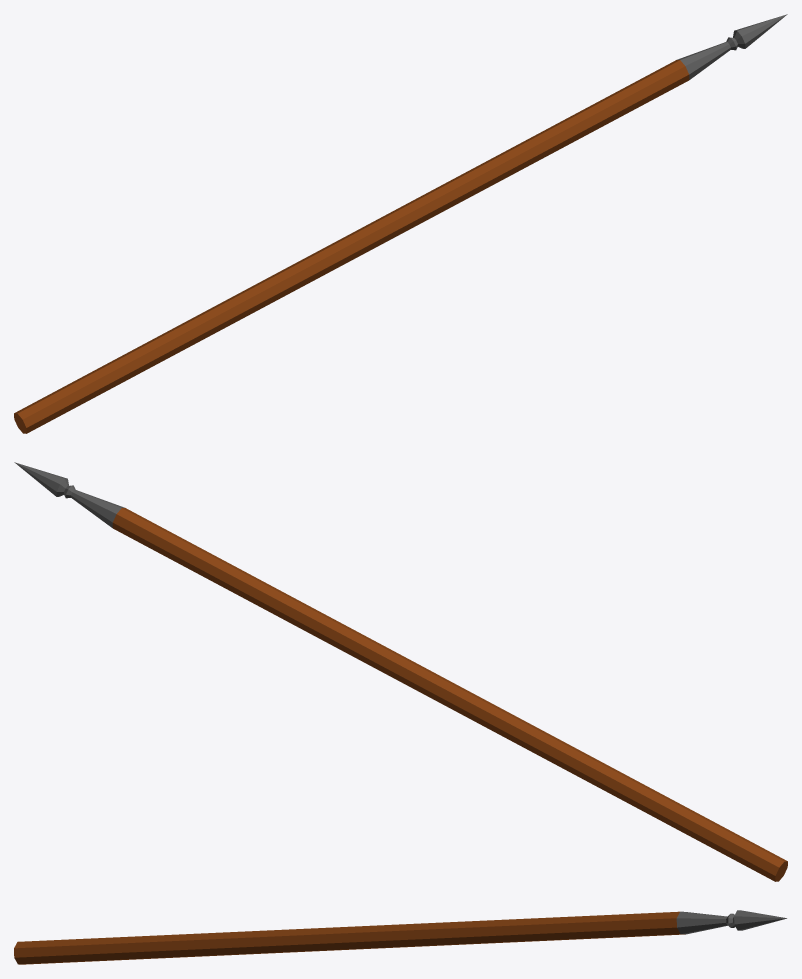
The model's file is Lanca.fbx.
3 views of the same model, one above another, from view 1: azimuth 30°, elevation 25°; view 2: azimuth 150°, elevation 25°; view 3: azimuth 330°, elevation 25° (orthographic).
Visible parts, largest first — view 1: Lanca; view 2: Lanca; view 3: Lanca.
Part boxes in pixels (bbox=[...]): Lanca: bbox=[14, 14, 787, 433]; Lanca: bbox=[14, 462, 787, 881]; Lanca: bbox=[14, 910, 786, 964].
Bounding box in the file's own units: 258 × 74.55 × 7.12.
1 material, 1 textured.
